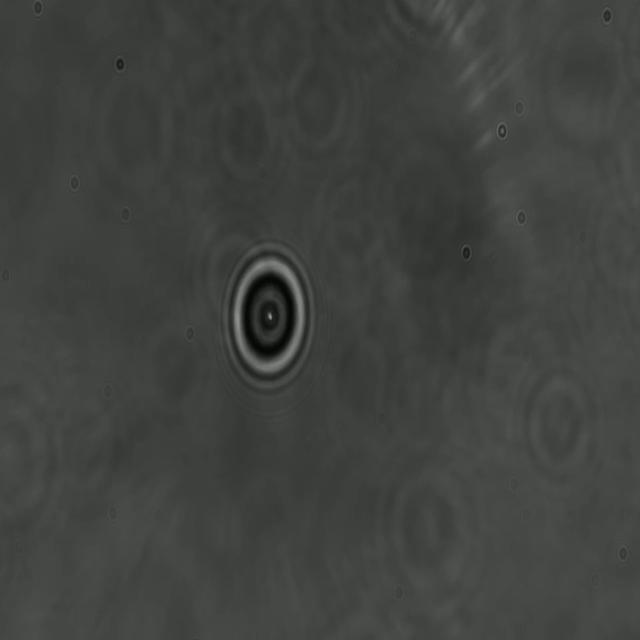LCELL: (221, 239, 318, 397)
